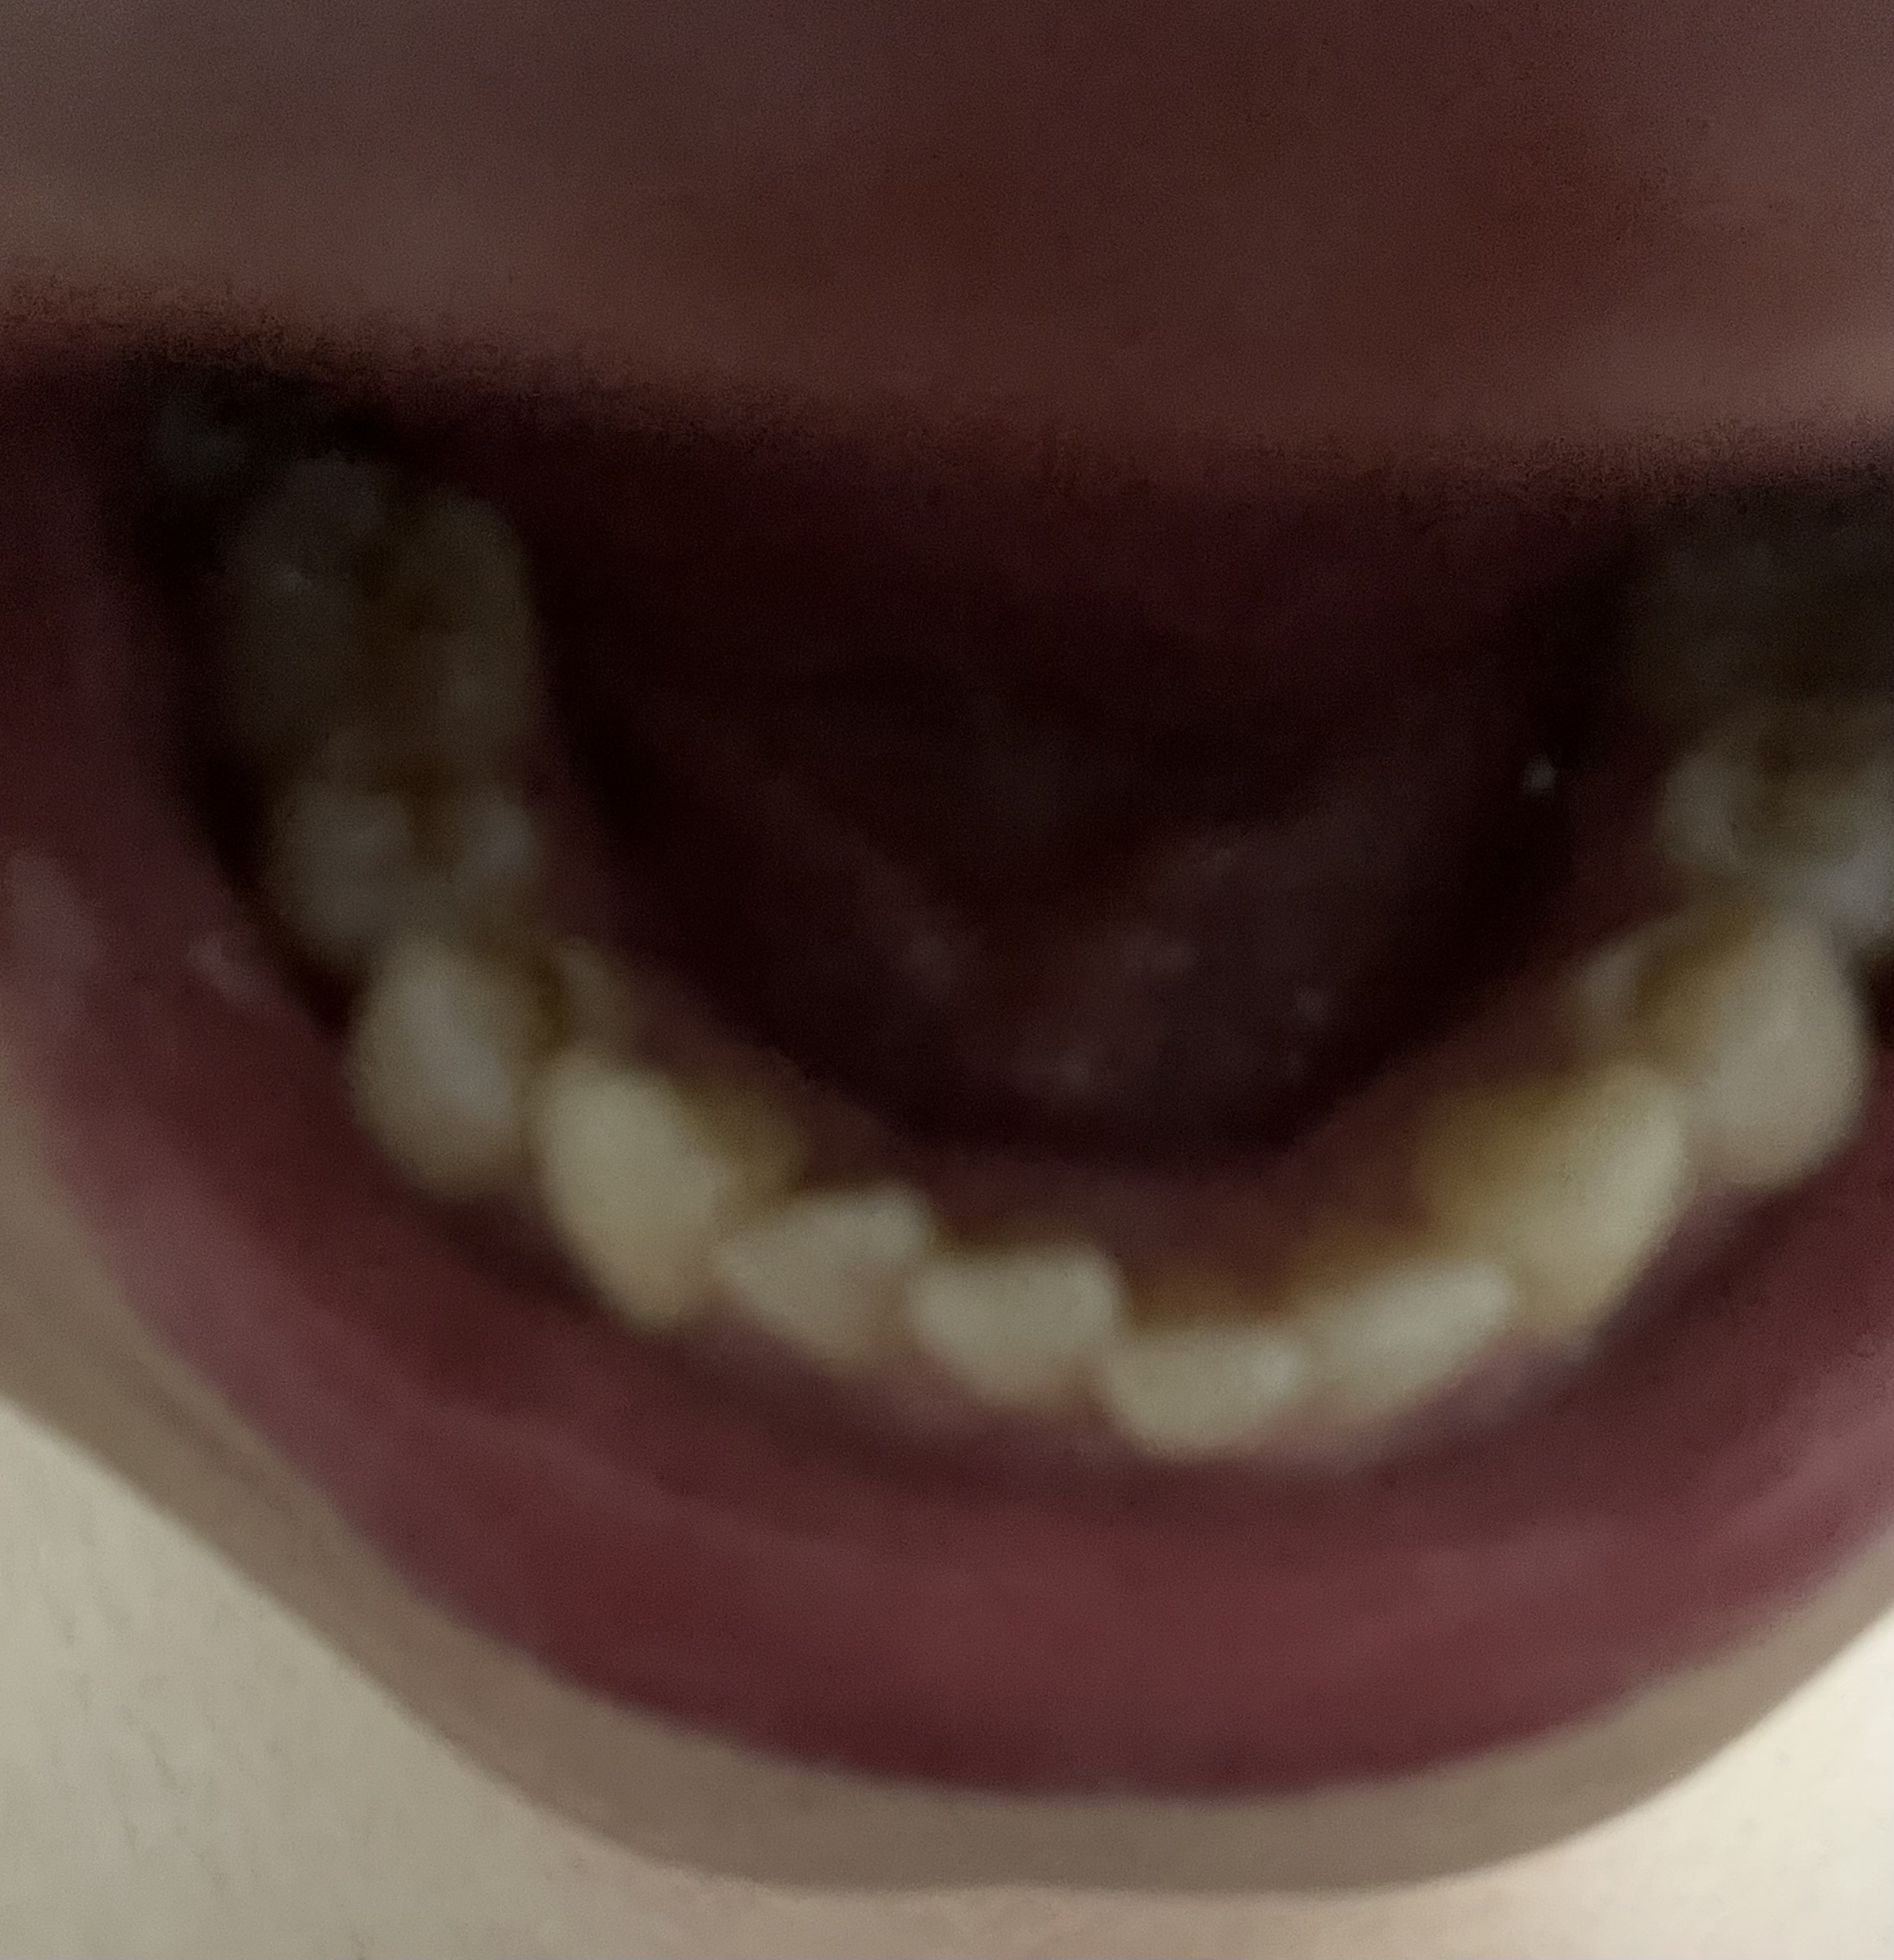teeth: (1565, 894, 1873, 1195), (236, 451, 527, 752), (1423, 1055, 1696, 1340), (345, 920, 621, 1179), (543, 1071, 789, 1319), (268, 751, 548, 963), (1672, 693, 1889, 929), (1315, 1200, 1512, 1426), (1098, 1248, 1308, 1456), (719, 1190, 919, 1360), (915, 1257, 1105, 1416)
